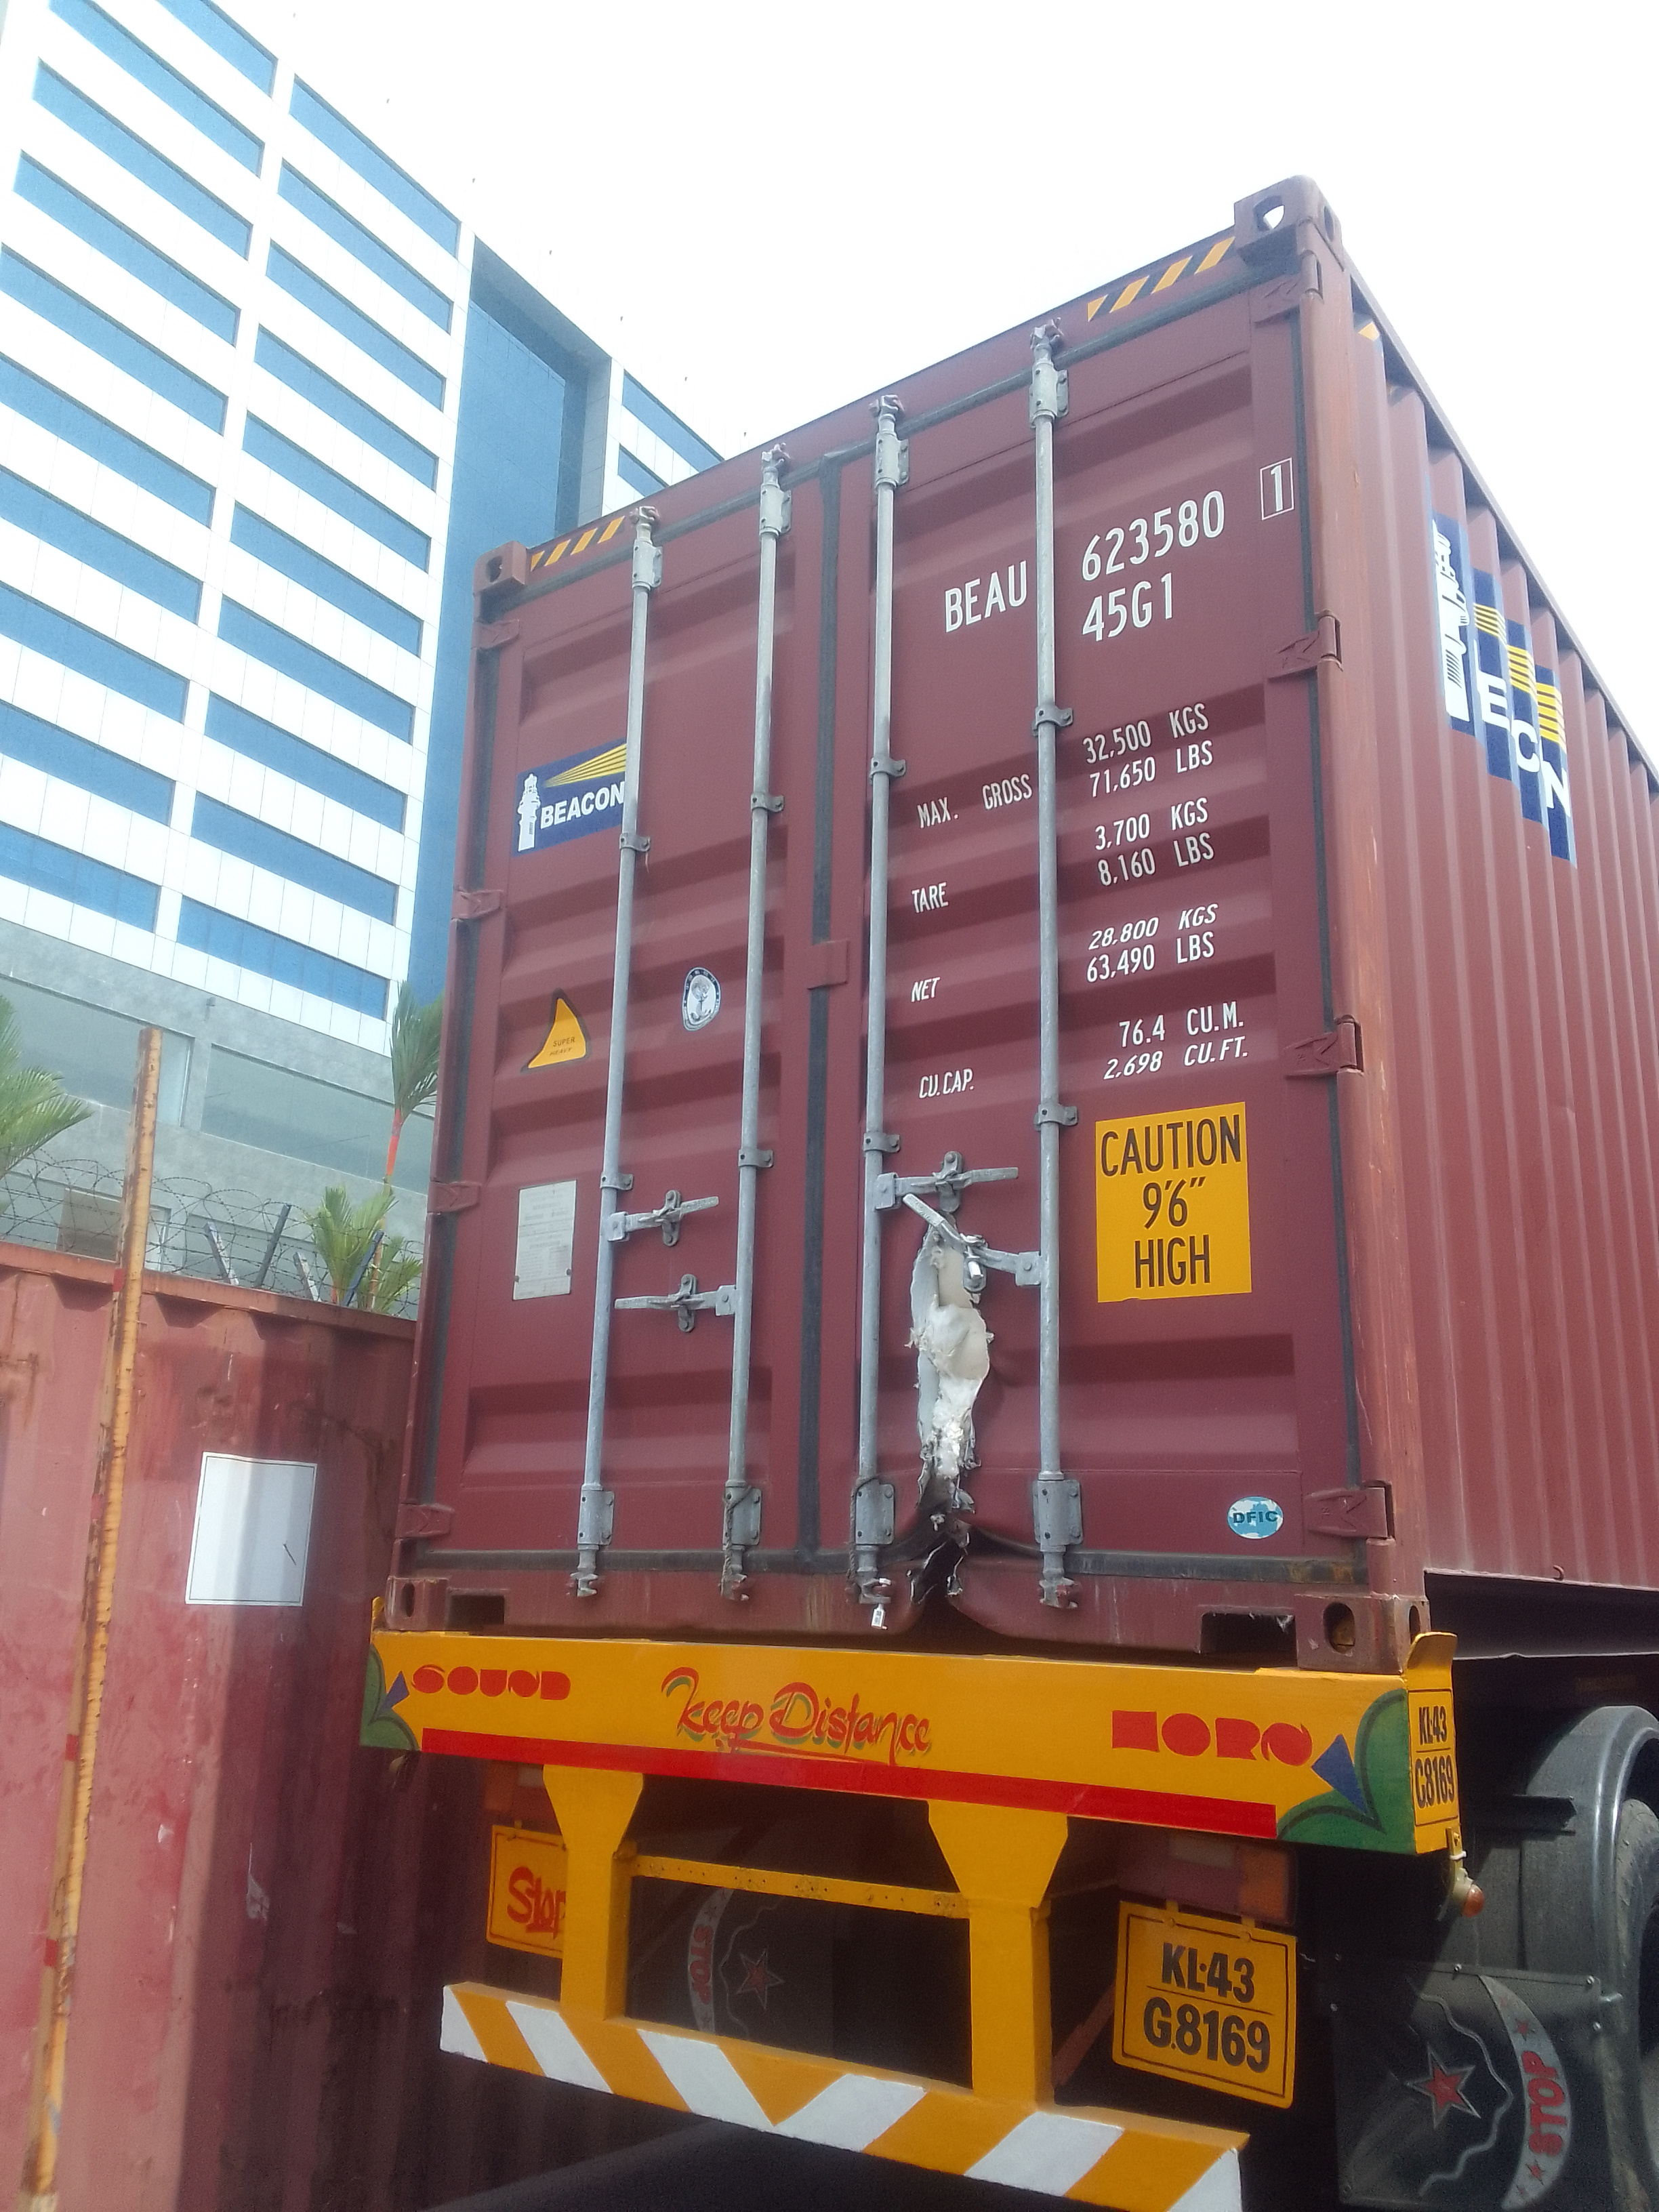severe: (842, 1167, 1033, 1573)
